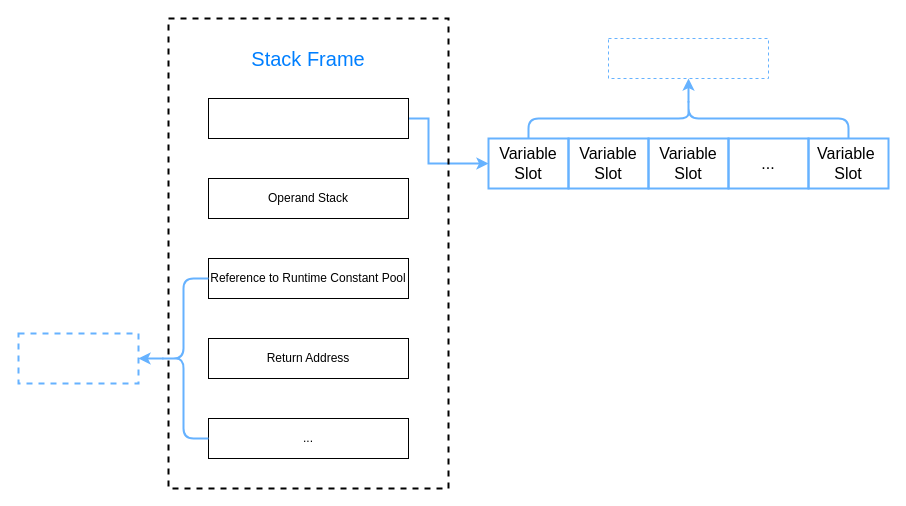
Image size: 906x506. Some labels were removed from this diagram. Here are the shapes that lost their labels. From the top down, the centre of each, then its label:
At point (688, 58): "Index: [ 0 , slotMax ]".
At point (308, 118): "Local Variable Table".
At point (78, 358): "Frame Data".
